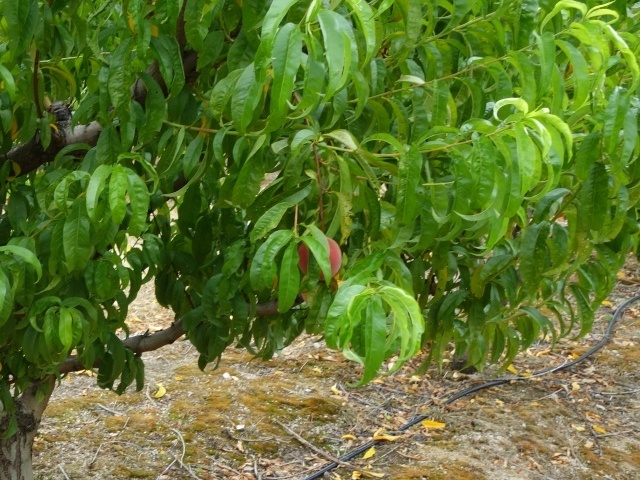peach: (295, 231, 345, 281)
